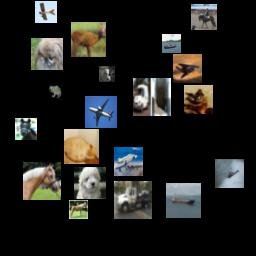airplane: (85, 96, 117, 128), (173, 54, 202, 83), (215, 159, 244, 188), (114, 147, 143, 176), (35, 1, 57, 23)
cat: (64, 129, 99, 164), (184, 85, 213, 114), (99, 66, 115, 82)
deer: (71, 22, 106, 57)
dog: (74, 167, 106, 199), (31, 38, 63, 70)
frog: (48, 84, 64, 100)
ship: (166, 183, 201, 218), (162, 34, 181, 53)
truck: (114, 181, 152, 219), (133, 78, 171, 116)
